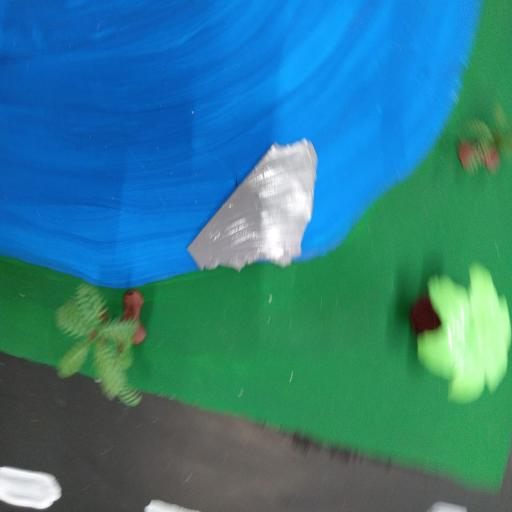encroachment: (182, 136, 331, 272)
